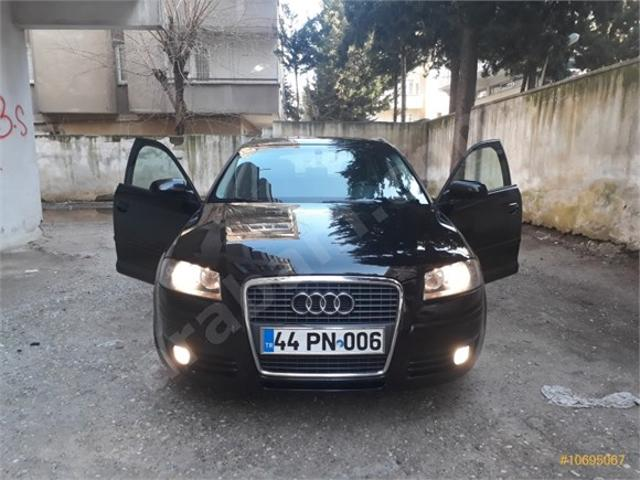audi: (287, 291, 358, 318)
